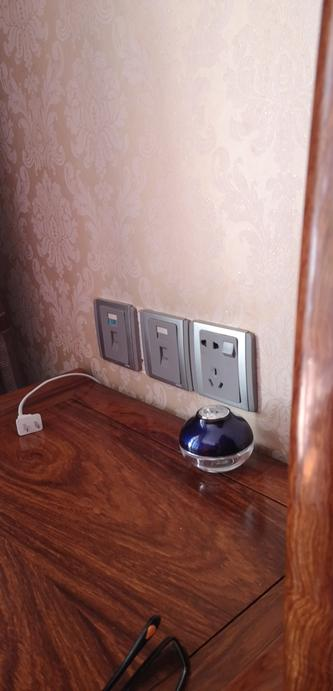switch: (218, 334, 240, 356)
